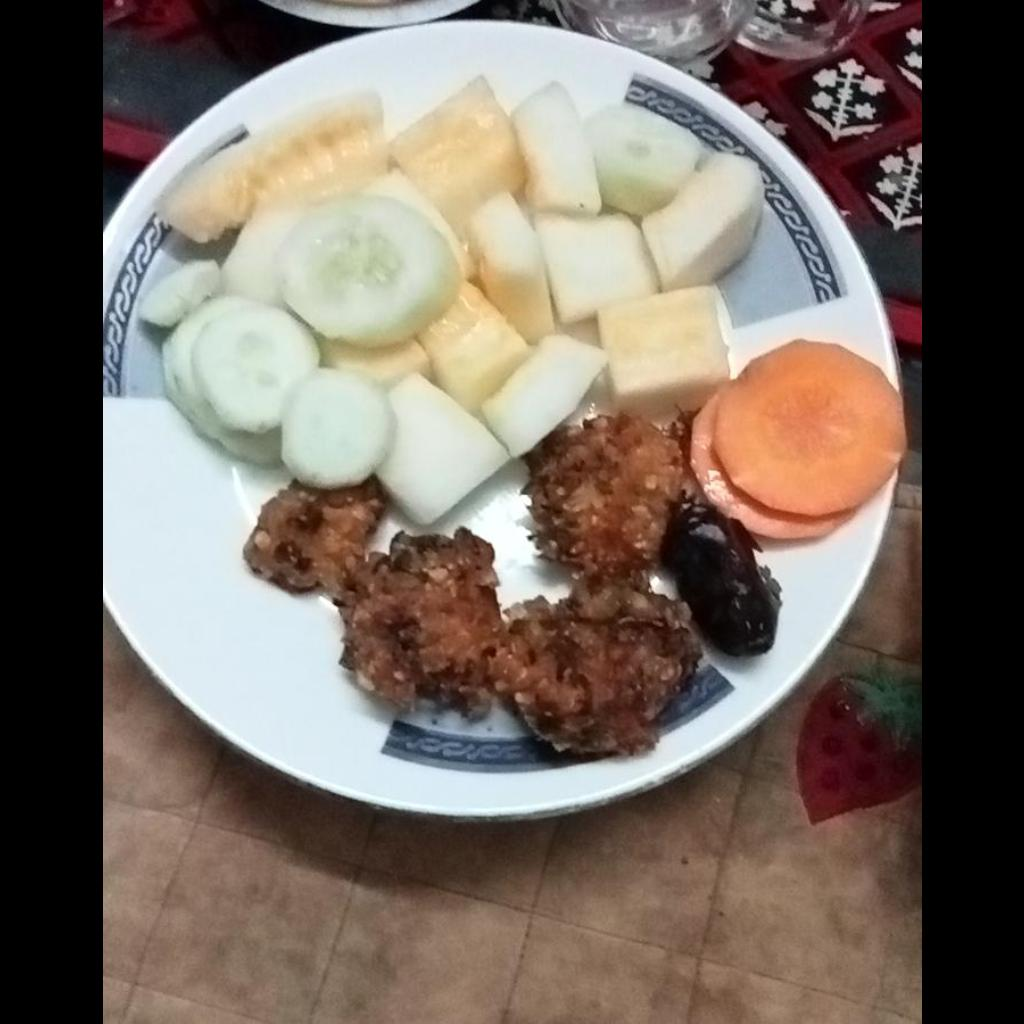carrot: (696, 340, 906, 548)
cucumber: (136, 199, 513, 524)
dates: (670, 510, 774, 659)
peyaju: (246, 415, 698, 757)
watermelon: (150, 76, 759, 441)
